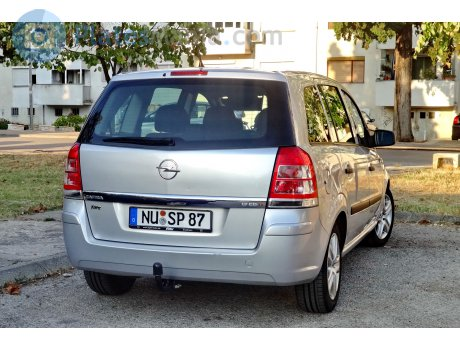License Plates: (133, 209, 206, 229)
